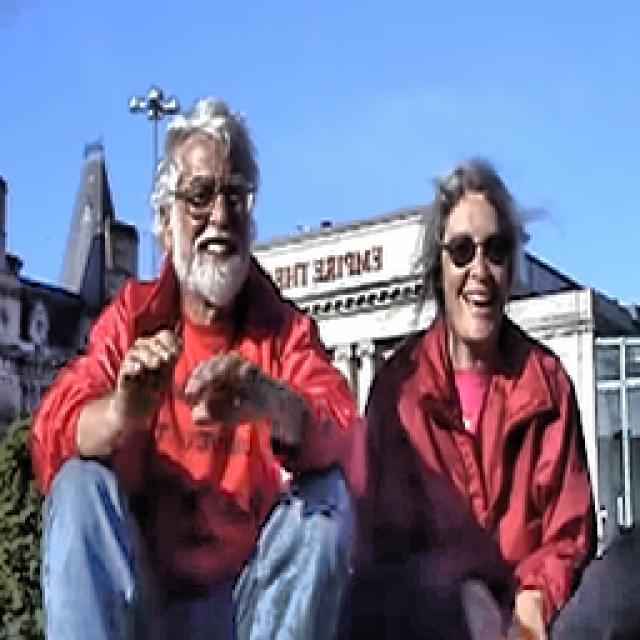Human: (28, 82, 362, 640), (376, 108, 582, 623)
